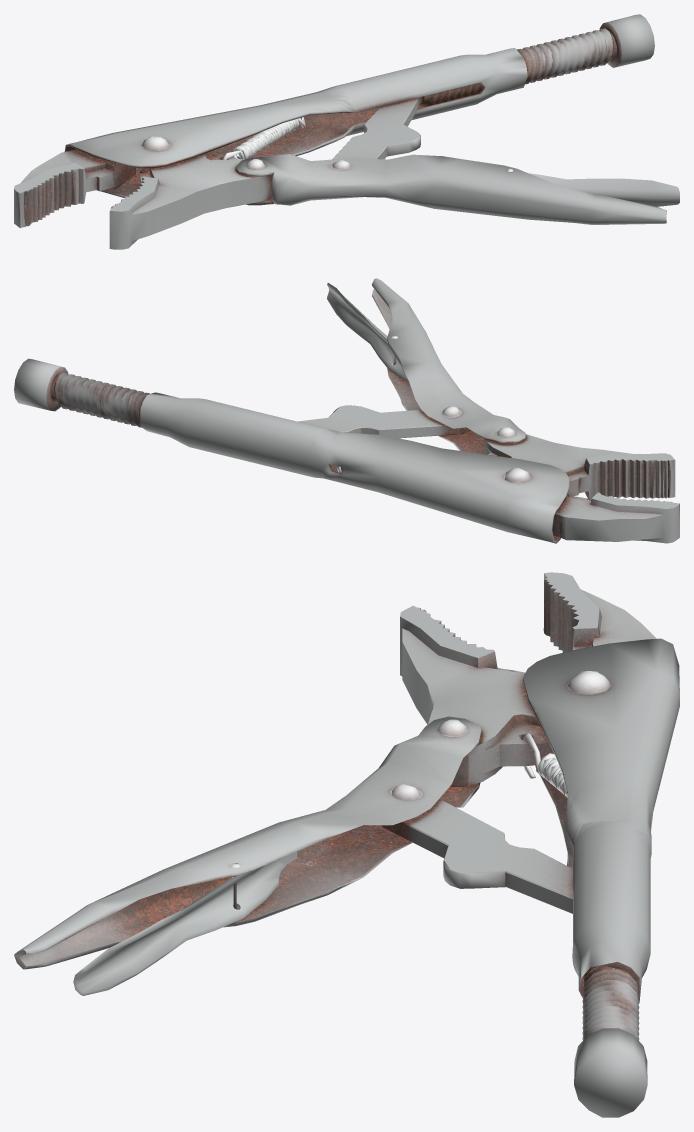
The model's file is wrench_LOD1.FBX.
The picture shows the model from 3 angles, top to bottom: view 1: azimuth 30°, elevation 25°; view 2: azimuth 150°, elevation 25°; view 3: azimuth 270°, elevation 25°; orthographic projection. The views are drawn at different scales.
Parts seen in each view (by area): view 1: Cylinder002; view 2: Cylinder002; view 3: Cylinder002.
Part boxes in pixels (box(x1,y1,x2,y2)): Cylinder002: box(14, 14, 679, 249); Cylinder002: box(14, 278, 679, 543); Cylinder002: box(14, 572, 679, 1117).
Size of the model in its own units: 20.89 by 1.55 by 12.09.
1 material, 1 textured.
